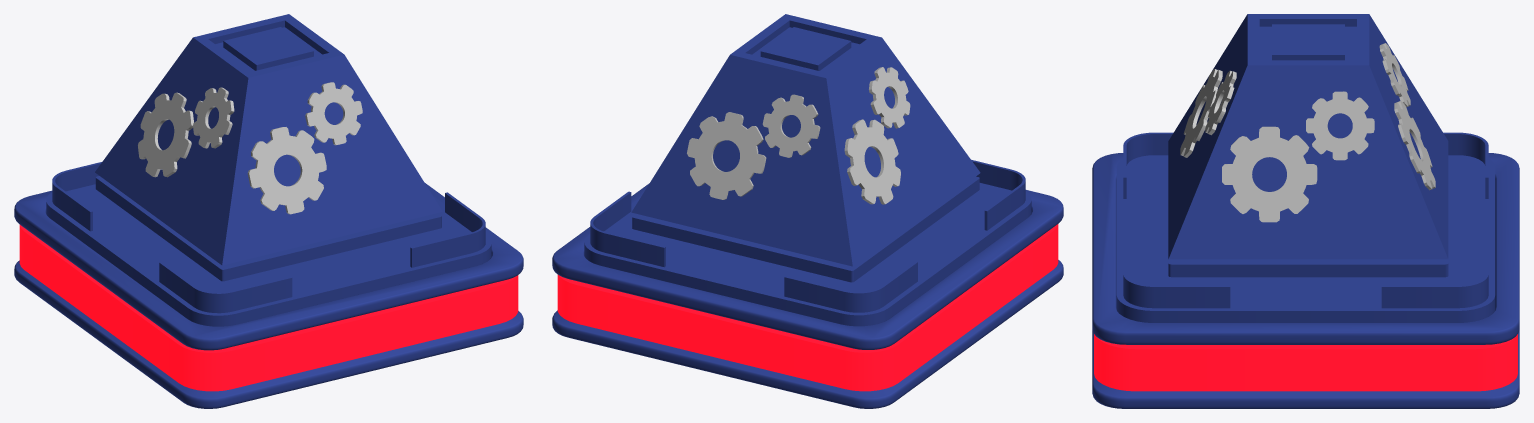
3 renders of one model, left to right at view 1: azimuth 30°, elevation 25°; view 2: azimuth 150°, elevation 25°; view 3: azimuth 270°, elevation 25°, orthographic. The views are drawn at different scales.
Visible parts, largest first — view 1: 立方体, 底座02, 灯带动画, 底座03, 底边, 立方体.001, set.002, set.006, set.001, set.007; view 2: 立方体, 底座02, 灯带动画, 底座03, 底边, 立方体.001, set.003, set.006, set.004, set.007; view 3: 立方体, 底座02, 底座03, 灯带动画, 底边, set.005, 立方体.001, set.008, set.002, set.003, set.001, set.004.
Boxes of the visible parts, left/top/right/bottom form: 立方体: left=95, top=14, right=442, bottom=265; 底座02: left=14, top=182, right=523, bottom=408; 灯带动画: left=19, top=225, right=518, bottom=391; 底座03: left=46, top=184, right=491, bottom=326; 底边: left=52, top=162, right=485, bottom=313; 立方体.001: left=95, top=176, right=441, bottom=281; set.002: left=247, top=127, right=326, bottom=214; set.006: left=138, top=92, right=193, bottom=177; set.001: left=305, top=82, right=362, bottom=145; set.007: left=193, top=87, right=234, bottom=148; 立方体: left=631, top=14, right=980, bottom=266; 底座02: left=552, top=183, right=1063, bottom=408; 灯带动画: left=557, top=224, right=1058, bottom=391; 底座03: left=584, top=183, right=1031, bottom=326; 底边: left=590, top=159, right=1025, bottom=312; 立方体.001: left=632, top=176, right=979, bottom=282; set.003: left=687, top=112, right=766, bottom=199; set.006: left=844, top=119, right=900, bottom=204; set.004: left=762, top=94, right=820, bottom=157; set.007: left=869, top=67, right=910, bottom=128; 立方体: left=1168, top=14, right=1448, bottom=259; 底座02: left=1092, top=153, right=1519, bottom=408; 底座03: left=1116, top=155, right=1495, bottom=322; 灯带动画: left=1094, top=334, right=1517, bottom=391; 底边: left=1123, top=132, right=1488, bottom=308; set.005: left=1222, top=126, right=1317, bottom=222; 立方体.001: left=1168, top=259, right=1448, bottom=277; set.008: left=1306, top=91, right=1374, bottom=160; set.002: left=1180, top=69, right=1222, bottom=157; set.003: left=1394, top=101, right=1435, bottom=190; set.001: left=1205, top=70, right=1236, bottom=135; set.004: left=1379, top=43, right=1410, bottom=107.
Size of the model in its own units: 1.92 by 1.39 by 1.92.
